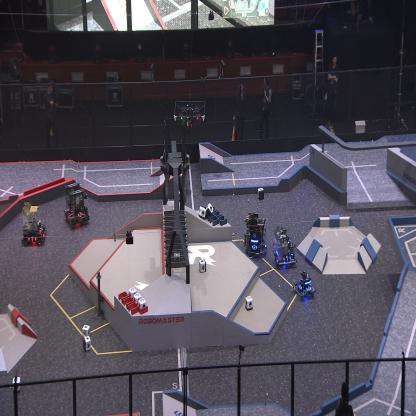car: (64, 178, 90, 228), (243, 211, 268, 258), (272, 224, 297, 270), (21, 202, 46, 246), (293, 270, 316, 300)
